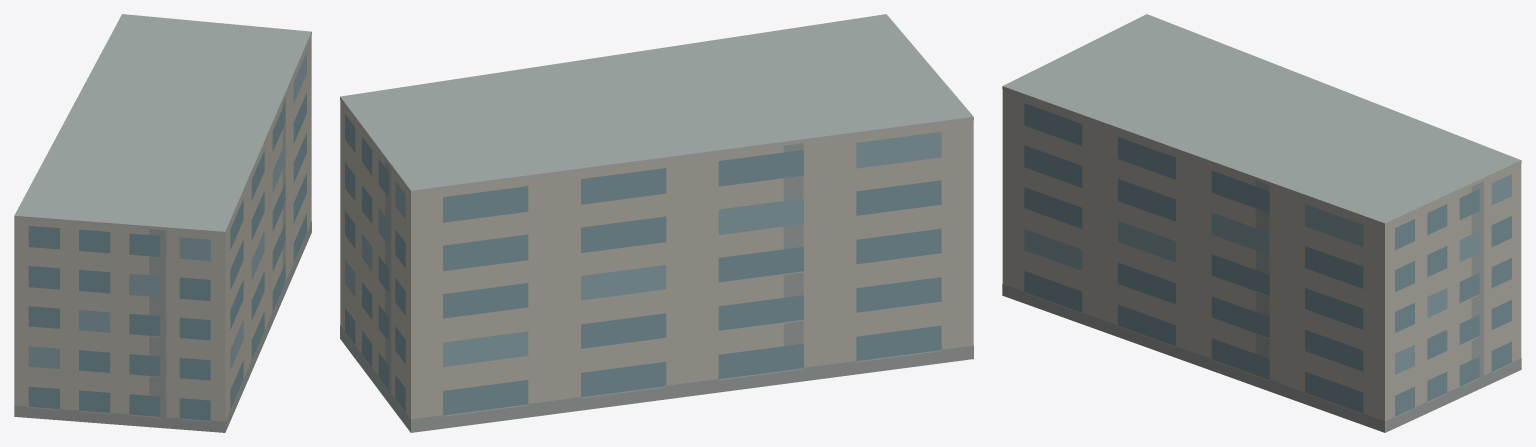
The model's file is residential-6bec86a9-abe2-444d-958d-9529f99fdb07.glb.
3 renders of one model, left to right at view 1: azimuth 30°, elevation 25°; view 2: azimuth 150°, elevation 25°; view 3: azimuth 270°, elevation 25°, orthographic. The views are drawn at different scales.
Parts seen in each view (by area): view 1: residential-6bec86a9-abe2-444d-958d-9529f99fdb07.tmp; view 2: residential-6bec86a9-abe2-444d-958d-9529f99fdb07.tmp; view 3: residential-6bec86a9-abe2-444d-958d-9529f99fdb07.tmp.
Part boxes in pixels (x1,y1,x2,y2): residential-6bec86a9-abe2-444d-958d-9529f99fdb07.tmp: [14, 14, 311, 432]; residential-6bec86a9-abe2-444d-958d-9529f99fdb07.tmp: [340, 14, 973, 432]; residential-6bec86a9-abe2-444d-958d-9529f99fdb07.tmp: [1002, 14, 1521, 432].
Bounding box in the file's own units: 32.69 × 15.25 × 34.24.
